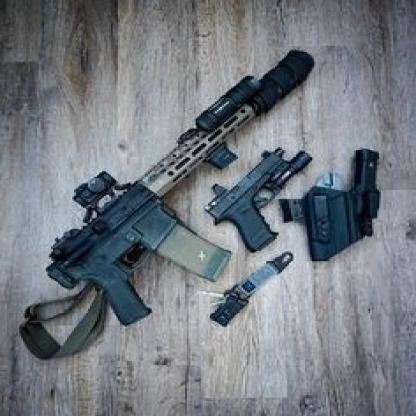Knife: (314, 172, 352, 254)
Pistol: (44, 49, 316, 330), (201, 145, 314, 252), (316, 328, 318, 330)
